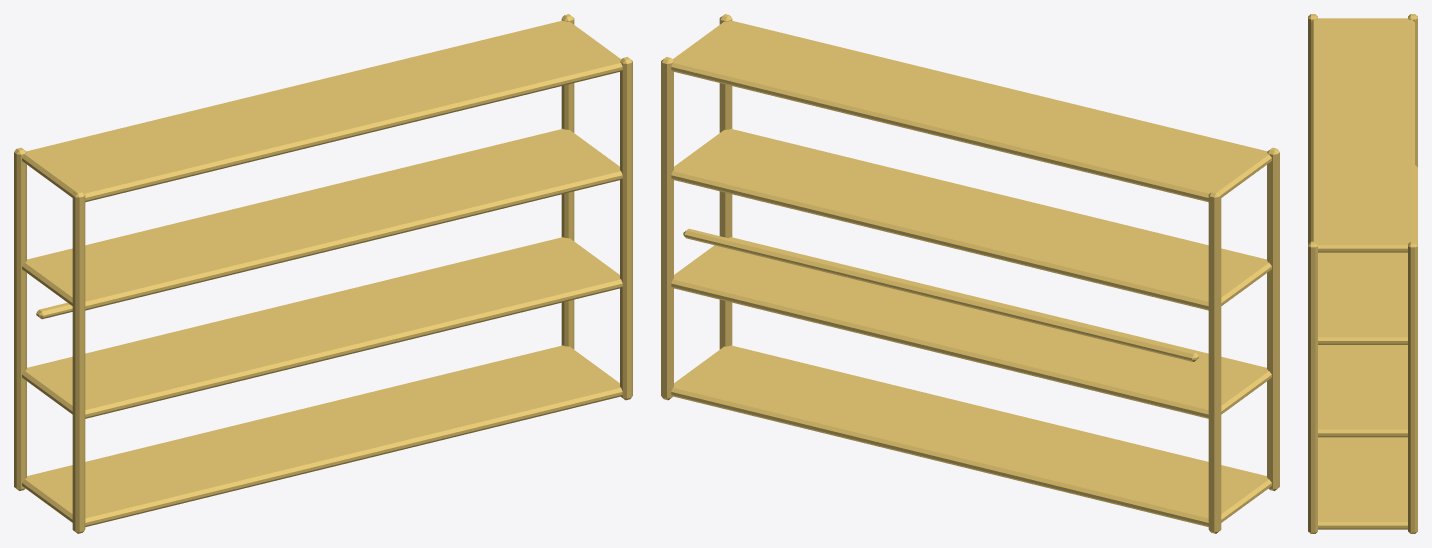
Rendered from SM_Rack_6x3p5x1p2.glb.
3 views of the same model, side by side, from view 1: azimuth 30°, elevation 25°; view 2: azimuth 150°, elevation 25°; view 3: azimuth 270°, elevation 25° (orthographic). The views are drawn at different scales.
Visible parts, largest first — view 1: SM_Rack_6x3p5x1p2; view 2: SM_Rack_6x3p5x1p2; view 3: SM_Rack_6x3p5x1p2.
Part boxes in pixels (box(x1,y1,x2,y2)): SM_Rack_6x3p5x1p2: box(14, 14, 632, 533); SM_Rack_6x3p5x1p2: box(661, 14, 1279, 533); SM_Rack_6x3p5x1p2: box(1308, 14, 1417, 533).
Size of the model in its own units: 6 by 3.5 by 1.2.
